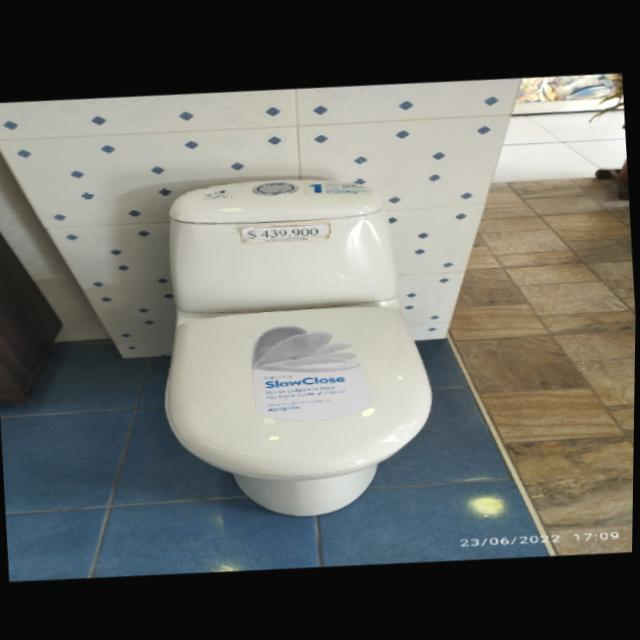toilet: (148, 165, 444, 526)
